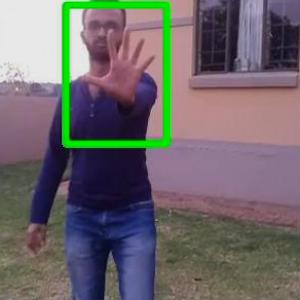follow_hand: (75, 20, 158, 102)
